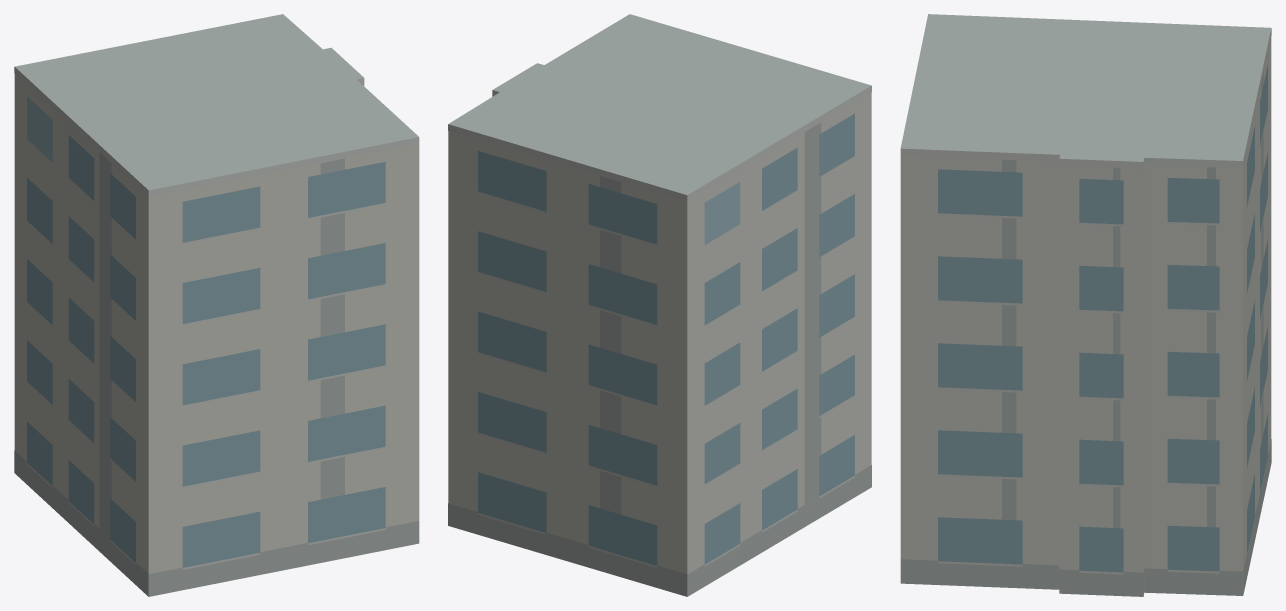
The model's file is survey-upis-32548289.glb.
3 renders of one model, left to right at view 1: azimuth 30°, elevation 25°; view 2: azimuth 150°, elevation 25°; view 3: azimuth 270°, elevation 25°, orthographic. The views are drawn at different scales.
Parts seen in each view (by area): view 1: survey-upis-32548289.tmp; view 2: survey-upis-32548289.tmp; view 3: survey-upis-32548289.tmp.
Boxes of the visible parts, bbox=[...] form: survey-upis-32548289.tmp: bbox=[14, 14, 419, 596]; survey-upis-32548289.tmp: bbox=[448, 14, 871, 596]; survey-upis-32548289.tmp: bbox=[900, 14, 1271, 596].
Size of the model in its own units: 10.59 by 14.5 by 11.22.
